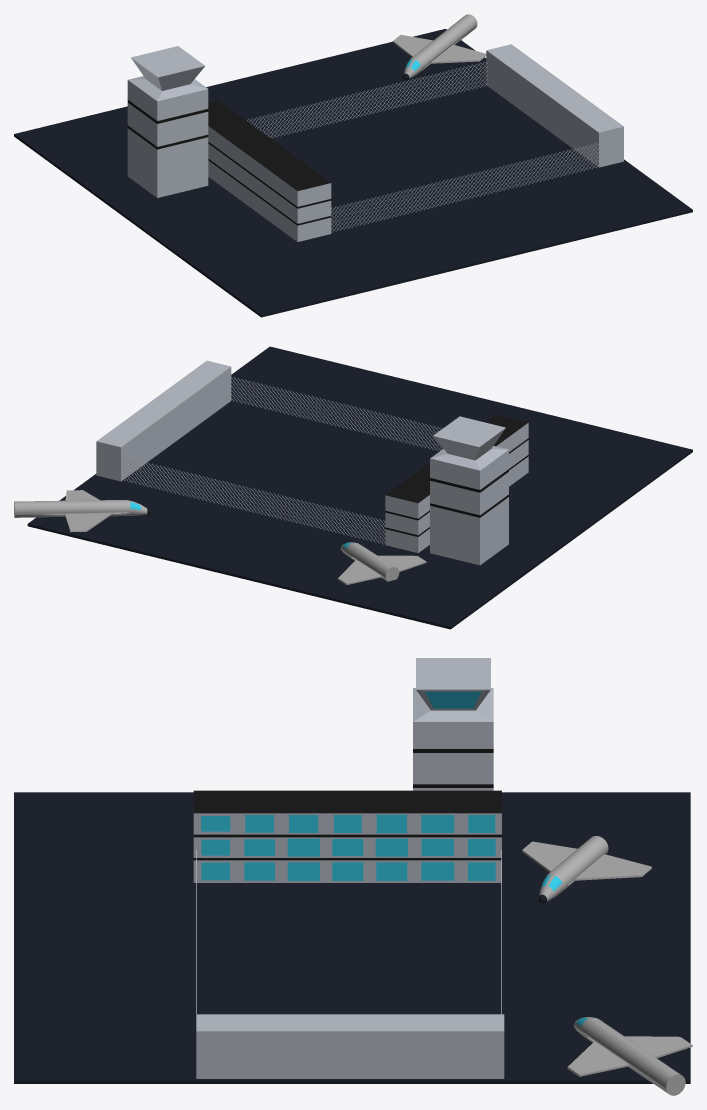
The model's file is aeropuerto.fbx.
3 views of the same model, one above another, from view 1: azimuth 30°, elevation 25°; view 2: azimuth 150°, elevation 25°; view 3: azimuth 270°, elevation 25° (orthographic). The views are drawn at different scales.
Visible parts, largest first — view 1: Cube.004, Cube.002, Cube.001, Cube.006, Cube.003, Cube; view 2: Cube.004, Cube.002, Cube.006, Cube.003, Cube.001, Cube, Cube.005; view 3: Cube.004, Cube.001, Cube.006, Cube.002, Cube, Cube.005.
Part boxes in pixels (x1,y1,x2,y2): Cube.004: (14,29,692,317); Cube.002: (127,46,208,197); Cube.001: (208,100,331,241); Cube.006: (486,44,623,167); Cube.003: (247,61,598,232); Cube: (392,14,486,79); Cube.004: (27,346,692,629); Cube.002: (430,416,508,565); Cube.006: (96,360,231,481); Cube.003: (122,377,442,544); Cube.001: (385,414,528,552); Cube: (14,490,150,532); Cube.005: (337,542,426,585); Cube.004: (14,792,690,1083); Cube.001: (193,790,501,882); Cube.006: (196,1014,504,1078); Cube.002: (413,658,493,790); Cube: (567,1017,692,1095); Cube.005: (521,836,651,903).
Bounding box in the file's own units: 13001 × 3331 × 12294.
